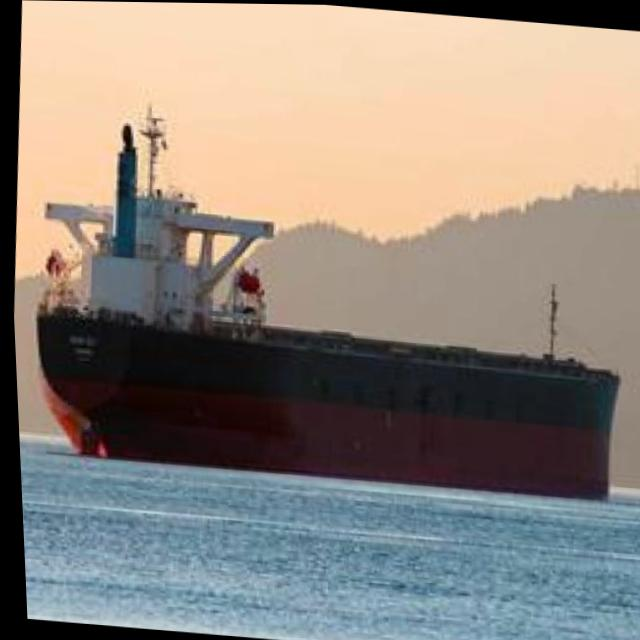ship2: (31, 96, 617, 502)
